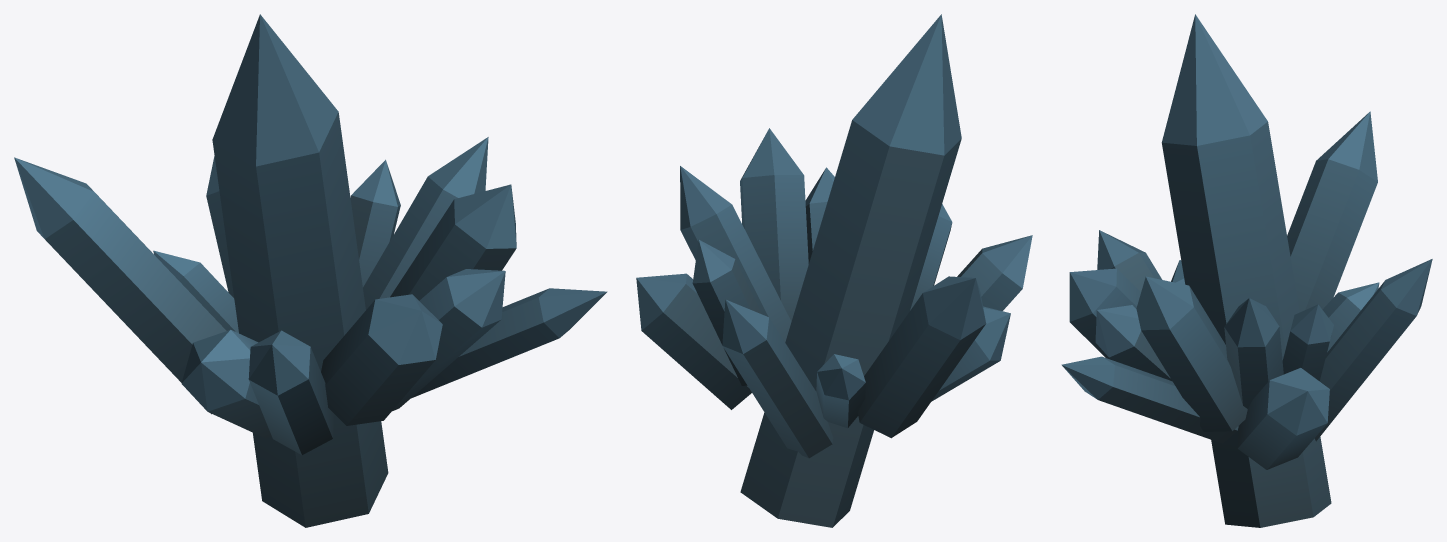
Rendered from geology-crystals-calcitecluster_v1.fbx.
The picture shows the model from 3 angles, left to right: view 1: azimuth 30°, elevation 25°; view 2: azimuth 150°, elevation 25°; view 3: azimuth 270°, elevation 25°; orthographic projection. The views are drawn at different scales.
Visible parts, largest first — view 1: CalciteCluster_v1; view 2: CalciteCluster_v1; view 3: CalciteCluster_v1.
Part boxes in pixels (x1,y1,x2,y2): CalciteCluster_v1: (14, 14, 607, 527); CalciteCluster_v1: (636, 14, 1032, 527); CalciteCluster_v1: (1061, 14, 1432, 527).
Bounding box in the file's own units: 7.27 × 9.21 × 6.65.
